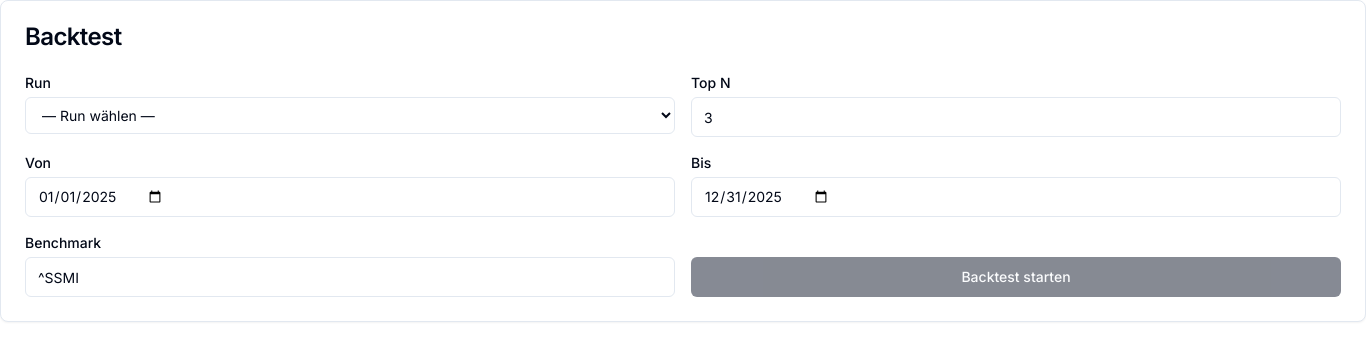
it: Backtest — Run-Dropdown › aktiviert den Start-Button erst nach Run-Auswahl
The image size is (1366, 339).
Check: the button with test id "start-backtest-btn" is disabled, box x1=691 y1=257 x2=1341 y2=297
Select "29.05.2026, 12:00 · Demo-US-5" in the dropdown with test id "backtest-run-id" at (350, 116), box x1=25 y1=97 x2=675 y2=134
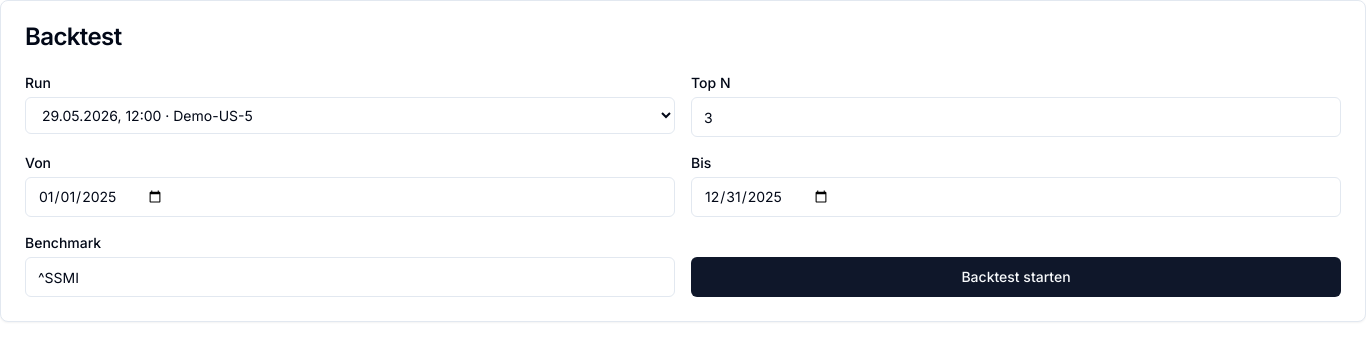
Check: the button with test id "start-backtest-btn" is enabled, box x1=691 y1=257 x2=1341 y2=297
